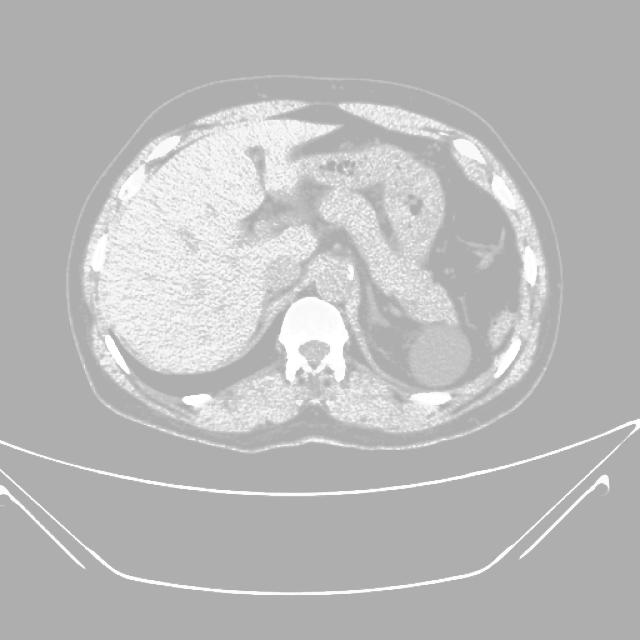cysts: (65, 79, 563, 455)
